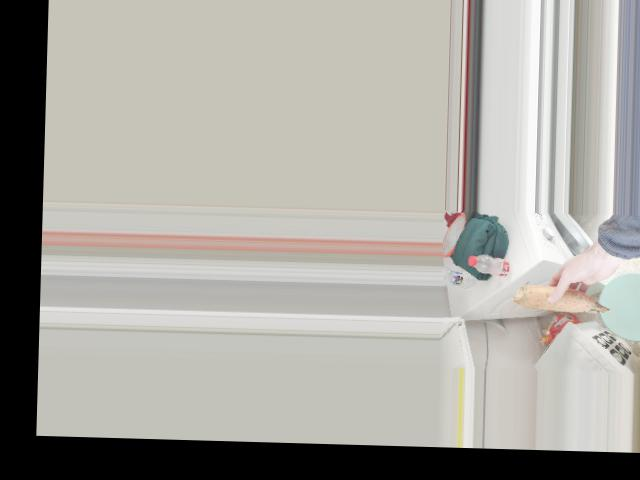sweet_potato: (511, 281, 608, 314)
